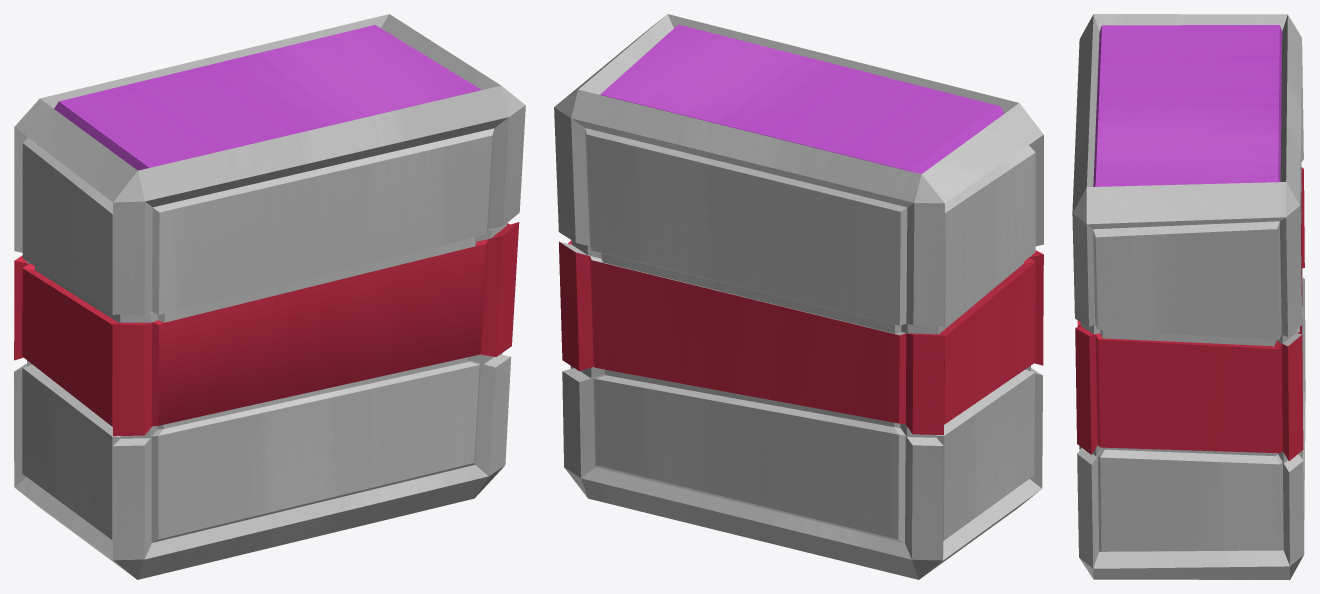
3 views of the same model, side by side, from view 1: azimuth 30°, elevation 25°; view 2: azimuth 150°, elevation 25°; view 3: azimuth 270°, elevation 25° (orthographic).
Parts seen in each view (by area): view 1: Box3; view 2: Box3; view 3: Box3.
Part boxes in pixels (<box>): Box3: <box>14,14,525,579</box>; Box3: <box>554,14,1043,579</box>; Box3: <box>1072,14,1305,579</box>.
Size of the model in its own units: 80 by 76.58 by 40.06.
